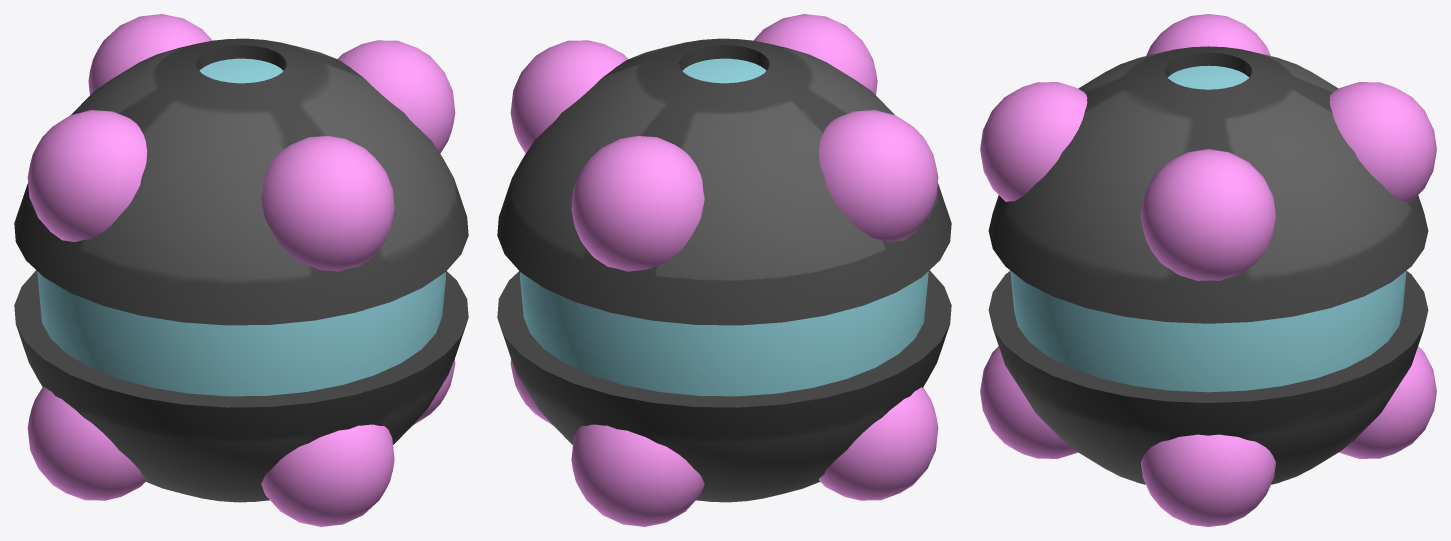
The model's file is Bomb.fbx.
The picture shows the model from 3 angles, left to right: view 1: azimuth 30°, elevation 25°; view 2: azimuth 150°, elevation 25°; view 3: azimuth 270°, elevation 25°; orthographic projection. The views are drawn at different scales.
Parts seen in each view (by area): view 1: Ball Set; view 2: Ball Set; view 3: Ball Set.
Boxes of the visible parts, box(x1,y1,x2,y2) form: Ball Set: box(14, 14, 468, 526); Ball Set: box(497, 14, 951, 526); Ball Set: box(980, 14, 1436, 526).
Size of the model in its own units: 2.28 by 2.2 by 2.28.
Materials: 1 (1 with a texture image).
